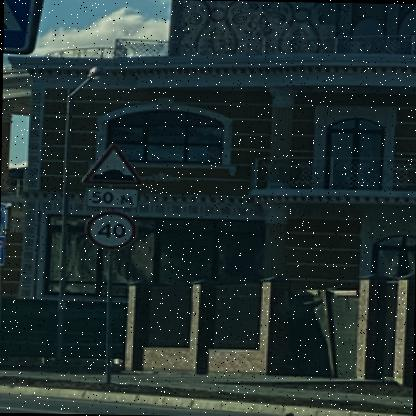speedlimit: (82, 210, 134, 249)
